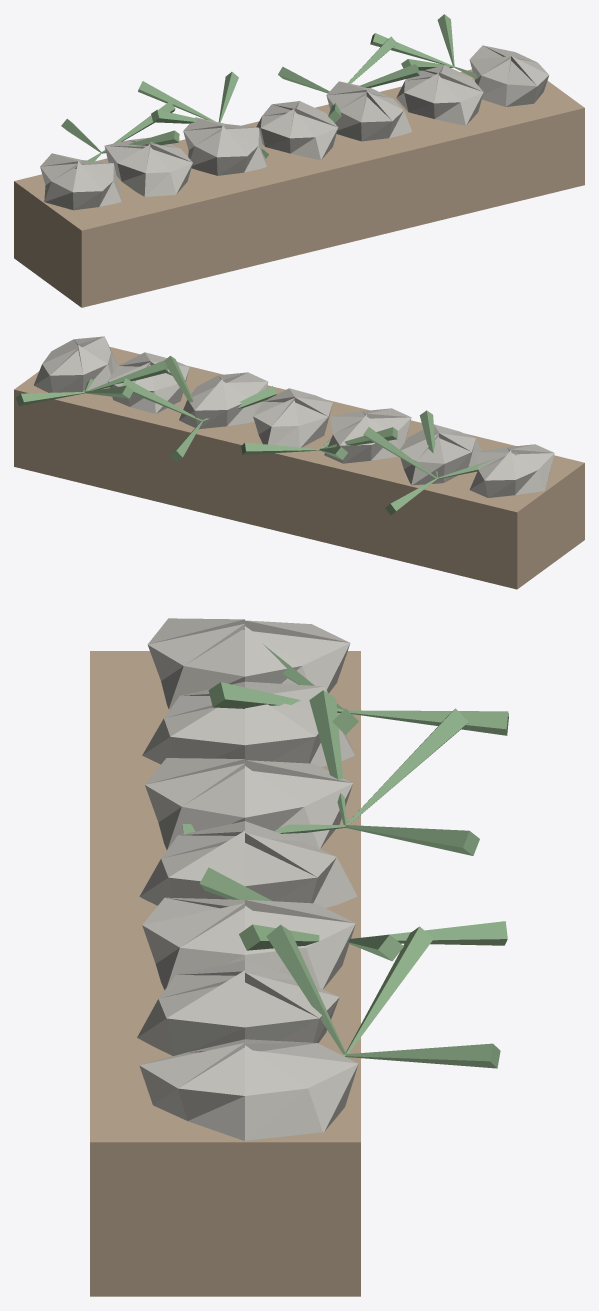
Rendered from korean-hanok-village-and-street-lotus-pond-edge-straig-ba4093ac__38090.glb.
The picture shows the model from 3 angles, top to bottom: view 1: azimuth 30°, elevation 25°; view 2: azimuth 150°, elevation 25°; view 3: azimuth 270°, elevation 25°; orthographic projection. The views are drawn at different scales.
Parts seen in each view (by area): view 1: lotus-pond-edge-straight; view 2: lotus-pond-edge-straight; view 3: lotus-pond-edge-straight.
Boxes of the visible parts, x1,y1,x2,y2 form: lotus-pond-edge-straight: (14,14,584,307); lotus-pond-edge-straight: (14,336,584,589); lotus-pond-edge-straight: (90,618,508,1296).
Bounding box in the file's own units: 3 × 0.7005 × 1.08.
